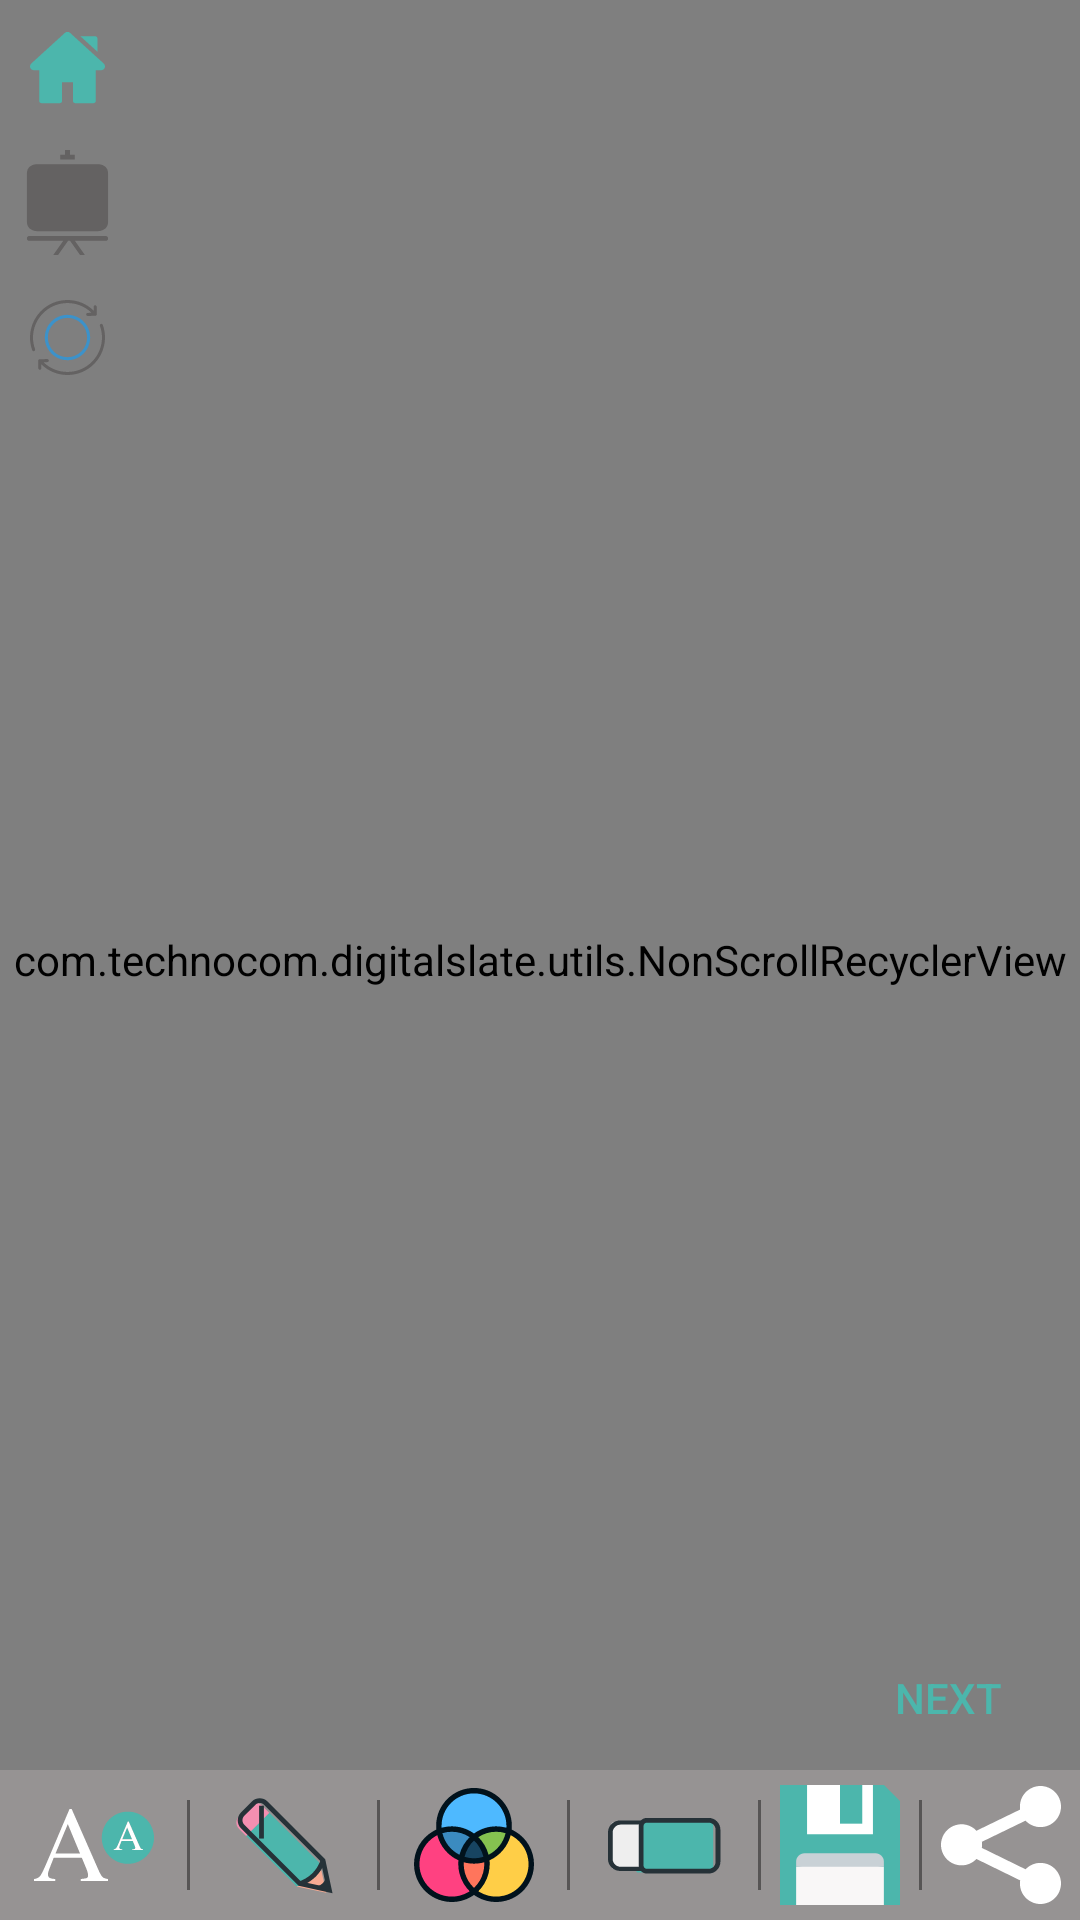

Screen size 1080*1920. Icon name, then its center in pixels as (x,y):
eraser: (664,1846)
home: (67,67)
orientation: (67,337)
pencil: (284,1845)
save: (840,1845)
share: (1001,1845)
